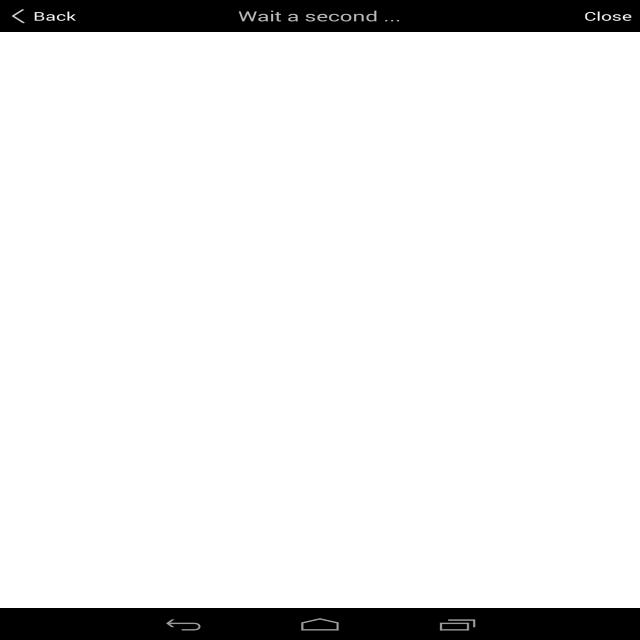Button: (222, 447, 316, 512), (324, 447, 418, 512), (426, 447, 520, 512), (454, 393, 614, 417)
ImageButton: (9, 17, 68, 59)
ImageView: (0, 59, 640, 254), (264, 121, 376, 192), (332, 447, 411, 496), (434, 447, 513, 496), (68, 30, 233, 46), (275, 578, 301, 594), (307, 578, 333, 594), (339, 578, 365, 594), (589, 270, 614, 286), (222, 334, 239, 345), (288, 505, 297, 510)
TextView: (0, 531, 640, 578), (222, 270, 589, 317), (0, 599, 640, 617), (580, 22, 632, 54), (324, 496, 418, 513), (426, 496, 520, 513), (120, 496, 213, 513), (498, 421, 614, 433), (397, 421, 485, 433), (245, 333, 316, 347), (222, 317, 283, 331), (250, 456, 288, 478), (240, 496, 285, 513), (152, 462, 181, 481), (142, 484, 192, 493)
